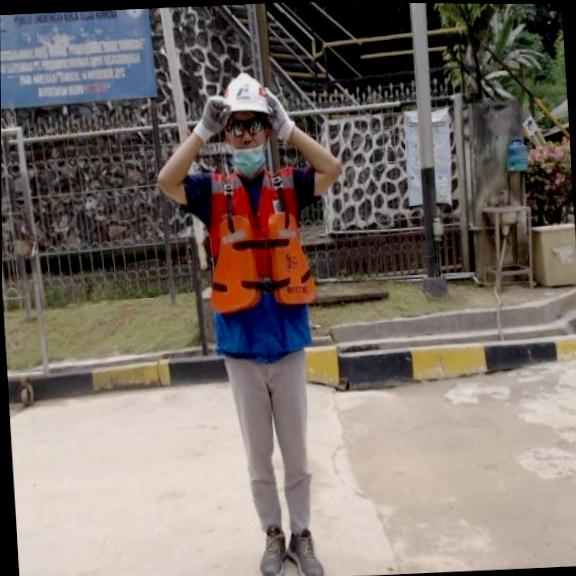safety_vest: (205, 209, 317, 311)
